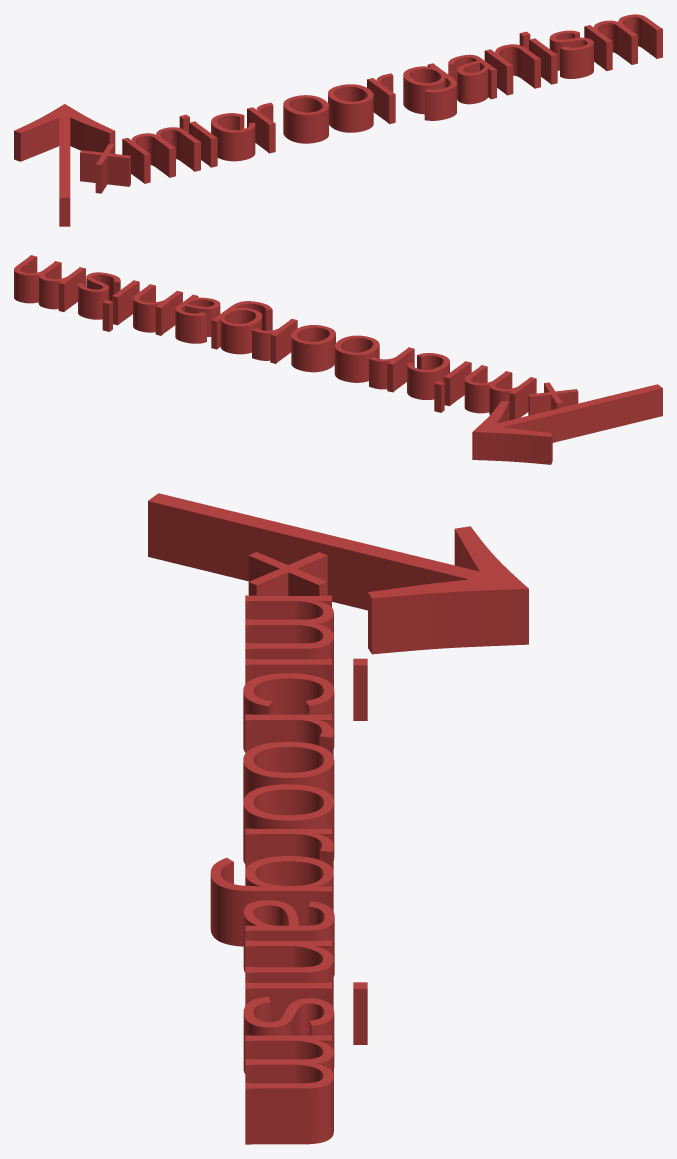
File: troubleText.fbx
3 renders of one model, top to bottom at view 1: azimuth 30°, elevation 25°; view 2: azimuth 150°, elevation 25°; view 3: azimuth 270°, elevation 25°, orthographic. The views are drawn at different scales.
Parts seen in each view (by area): view 1: オブジェクト_1, オブジェクト_3, オブジェクト_17, オブジェクト_11, オブジェクト_8, オブジェクト_9, オブジェクト_13, オブジェクト_12, オブジェクト_2, オブジェクト_6, オブジェクト_16, オブジェクト_10 (+3 smaller); view 2: オブジェクト_1, オブジェクト_17, オブジェクト_3, オブジェクト_11, オブジェクト_9, オブジェクト_13, オブジェクト_8, オブジェクト_12, オブジェクト_6, オブジェクト_16, オブジェクト_10, オブジェクト_7 (+5 smaller); view 3: オブジェクト_1, オブジェクト_17, オブジェクト_11, オブジェクト_3, オブジェクト_9, オブジェクト_8, オブジェクト_13, オブジェクト_6, オブジェクト_12, オブジェクト_16, オブジェクト_2, オブジェクト_7 (+5 smaller).
Part boxes in pixels (x1,y1,x2,y2): オブジェクト_1: (14, 104, 115, 226); オブジェクト_3: (122, 127, 200, 183); オブジェクト_17: (584, 14, 662, 71); オブジェクト_11: (403, 63, 456, 120); オブジェクト_8: (283, 95, 328, 143); オブジェクト_9: (328, 84, 373, 132); オブジェクト_13: (484, 44, 540, 95); オブジェクト_12: (448, 54, 496, 104); オブジェクト_2: (80, 143, 130, 193); オブジェクト_6: (211, 113, 255, 161); オブジェクト_16: (549, 30, 593, 78); オブジェクト_10: (367, 73, 395, 124); オブジェクト_1: (472, 384, 662, 464); オブジェクト_17: (14, 255, 85, 311); オブジェクト_3: (464, 365, 536, 420); オブジェクト_11: (211, 301, 272, 354); オブジェクト_9: (291, 325, 335, 372); オブジェクト_13: (133, 284, 182, 335); オブジェクト_8: (334, 335, 379, 382); オブジェクト_12: (175, 294, 220, 343); オブジェクト_6: (407, 353, 449, 399); オブジェクト_16: (78, 272, 120, 319); オブジェクト_10: (252, 318, 297, 363); オブジェクト_7: (369, 347, 414, 392); オブジェクト_1: (148, 493, 528, 654); オブジェクト_17: (245, 1035, 333, 1144); オブジェクト_11: (210, 856, 333, 946); オブジェクト_3: (245, 595, 333, 687); オブジェクト_9: (243, 784, 334, 863); オブジェクト_8: (243, 741, 334, 801); オブジェクト_13: (245, 940, 333, 1007); オブジェクト_6: (243, 673, 334, 751); オブジェクト_12: (243, 900, 334, 976); オブジェクト_16: (243, 996, 334, 1073); オブジェクト_2: (248, 552, 327, 595); オブジェクト_7: (245, 714, 333, 755).
Bounding box in the file's own units: 11434 × 3092 × 500.
